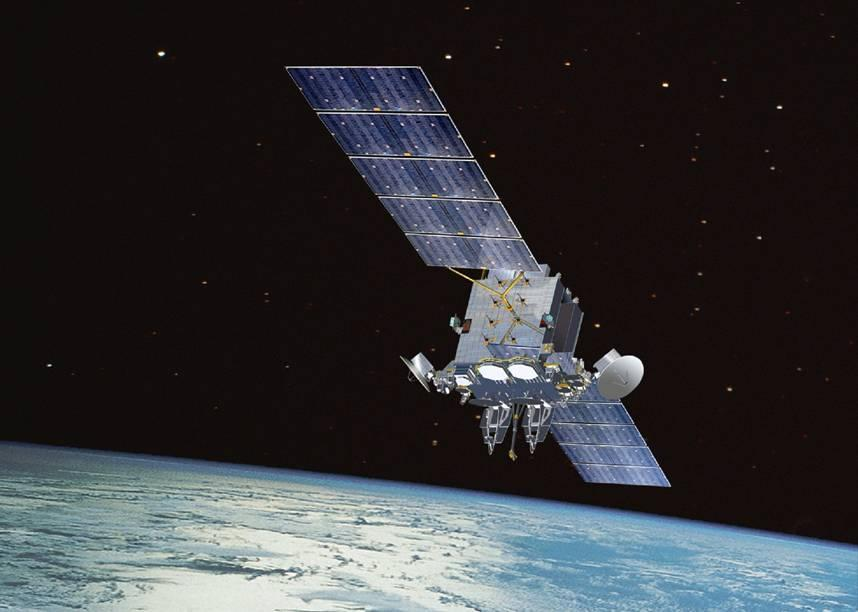antenna: (596, 354, 644, 402), (400, 353, 433, 395)
body: (453, 276, 585, 404)
solar: (281, 67, 545, 273), (542, 398, 673, 488)
